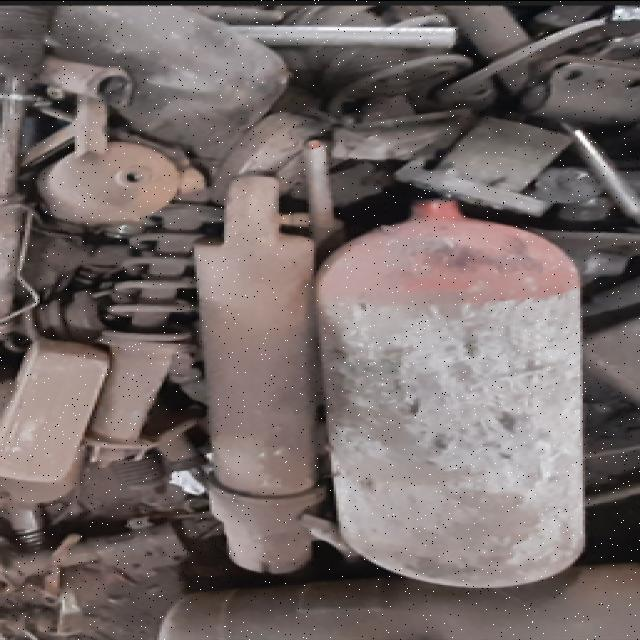cylinder: (315, 199, 579, 587)
shock absorber: (83, 200, 226, 469)
